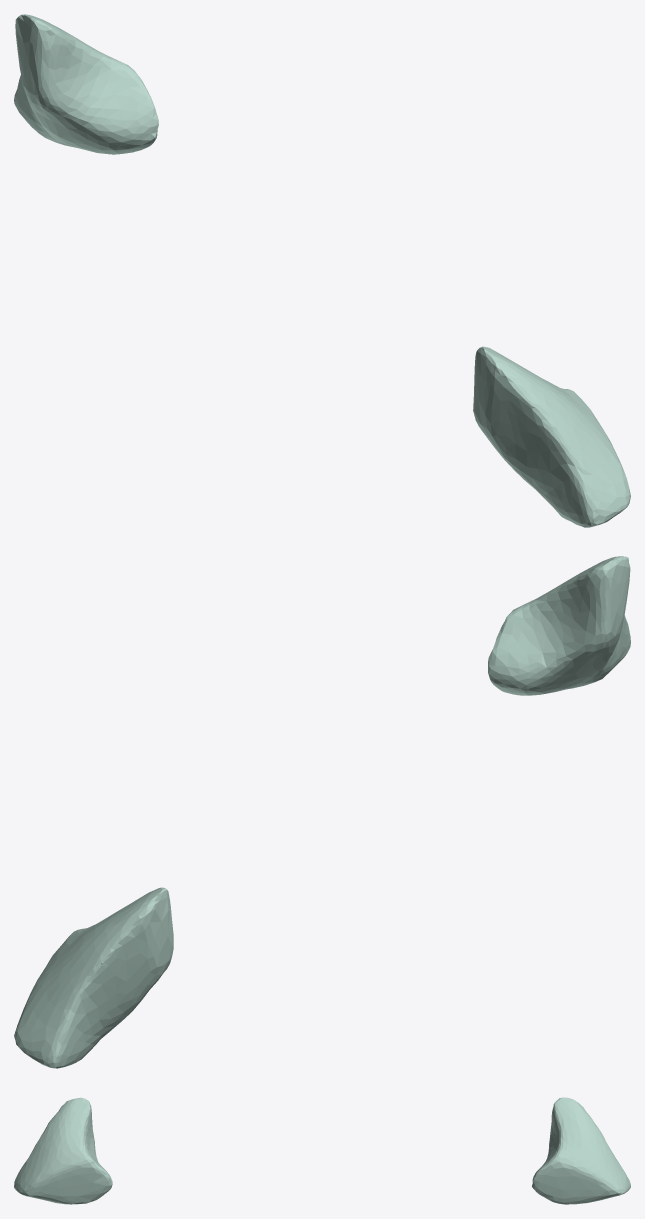
The picture shows the model from 3 angles, top to bottom: view 1: azimuth 30°, elevation 25°; view 2: azimuth 150°, elevation 25°; view 3: azimuth 270°, elevation 25°; orthographic projection. The views are drawn at different scales.
Parts seen in each view (by area): view 1: 566.obj; view 2: 566.obj; view 3: 566.obj.
Part boxes in pixels (x1=…): 566.obj: x1=14, y1=14, x2=630, y2=527; 566.obj: x1=14, y1=556, x2=630, y2=1068; 566.obj: x1=14, y1=1097, x2=630, y2=1204.
Bounding box in the file's own units: 984 × 1414 × 9261.
